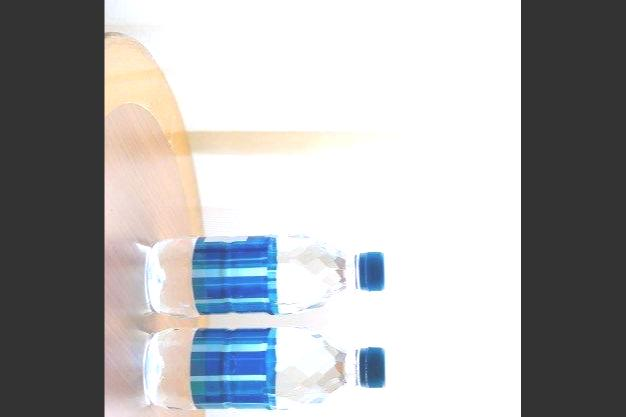bottle: (136, 318, 396, 417), (143, 237, 393, 315)
